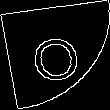O_N: (27, 27, 83, 83)
